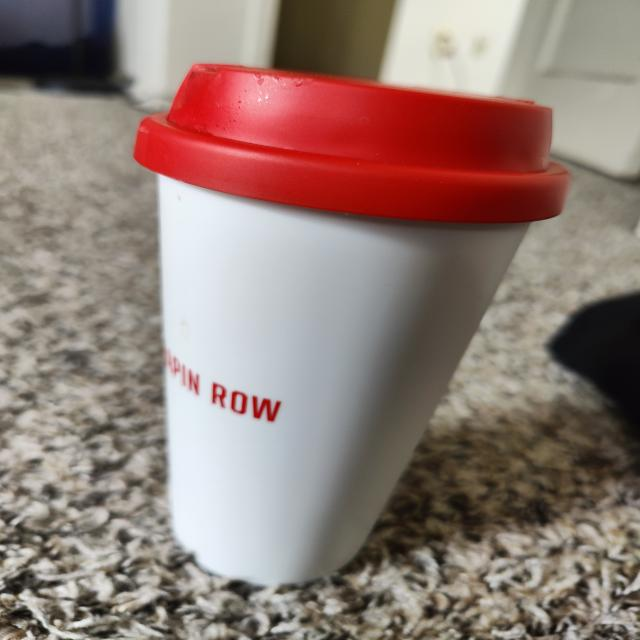mug: (130, 64, 573, 592)
